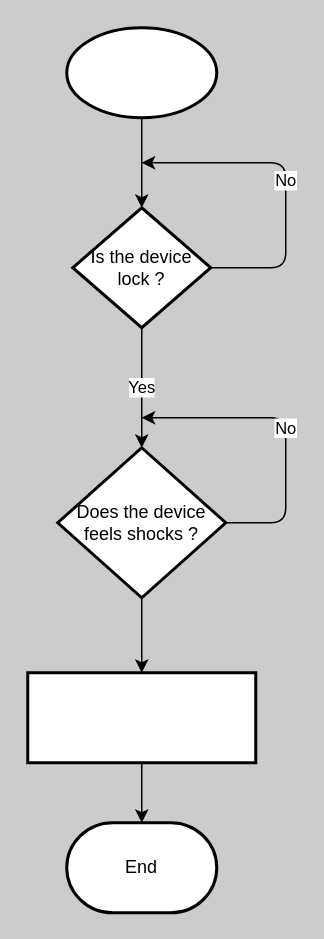
The diagram is 324 pixels wide and 939 high, and some of its shapes have lost their labels. The shapes that lost their labels are listed below. From the top down, each one's centre as x and y in pixels, then its label:
point 141,72: Start
point 141,717: sendGPSCoordinates()
